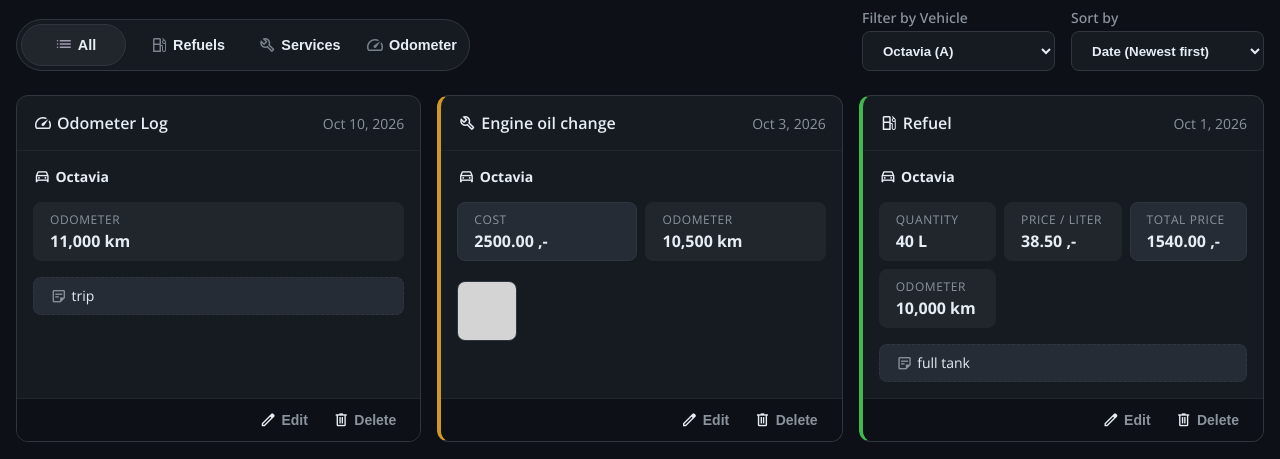
History view › deleting › deletes a odometer after confirmation
Click the button with class "btn-delete" below "trip" at (364, 420), box [324, 407, 404, 433]
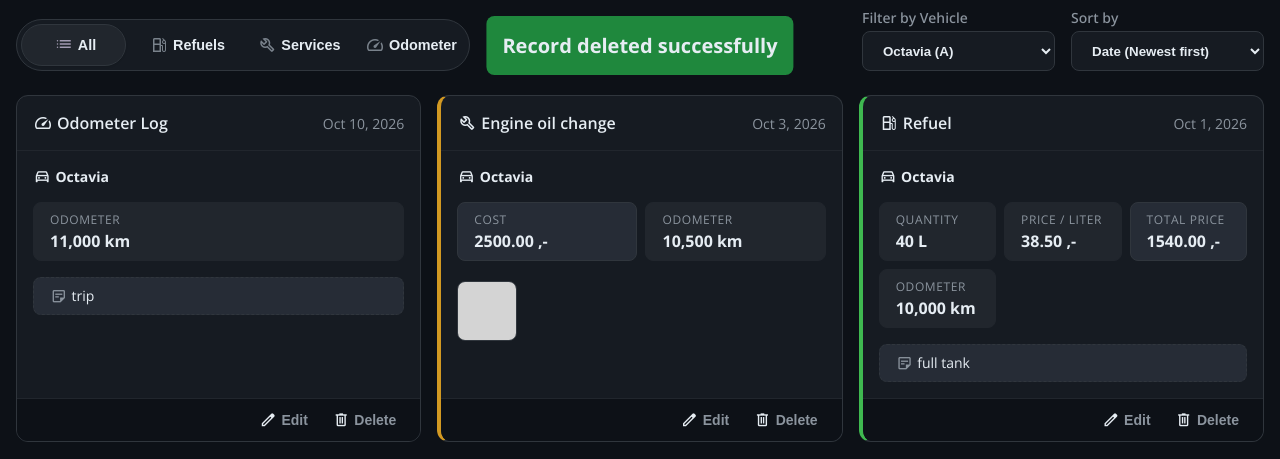
Now the text "Record deleted successfully" is shown, box [502, 32, 778, 59]
